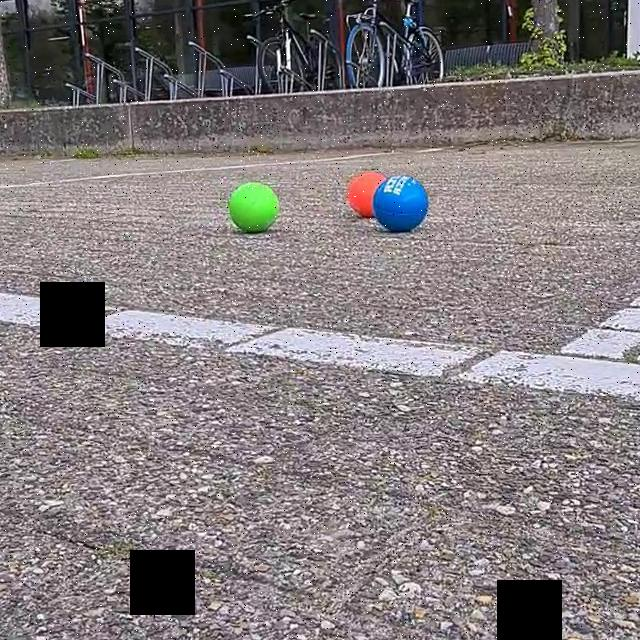ball: (374, 173, 432, 234), (228, 178, 282, 237), (344, 168, 389, 220)
